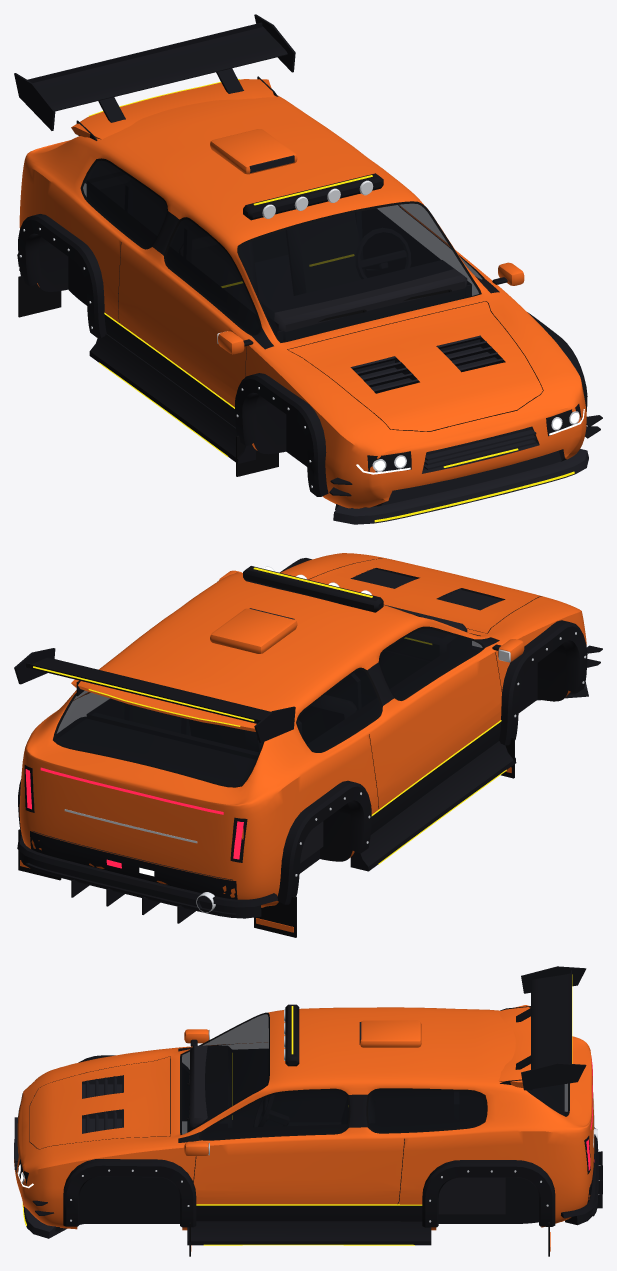
The model's file is car_kaiju.glb.
The picture shows the model from 3 angles, top to bottom: view 1: azimuth 30°, elevation 25°; view 2: azimuth 150°, elevation 25°; view 3: azimuth 270°, elevation 25°; orthographic projection. The views are drawn at different scales.
Visible parts, largest first — view 1: body, kit_1_parts, spoiler_2_parts, spoiler_1_parts; view 2: body, kit_1_parts, spoiler_2_parts, kit_0_parts, spoiler_1_parts; view 3: body, kit_1_parts, spoiler_2_parts, spoiler_1_parts, kit_0_parts.
Boxes of the visible parts, box(x1,y1,x2,y2) form: body: box(18, 95, 587, 508); kit_1_parts: box(17, 253, 602, 524); spoiler_2_parts: box(14, 14, 295, 130); spoiler_1_parts: box(71, 76, 278, 140); body: box(18, 553, 587, 912); kit_1_parts: box(17, 645, 602, 937); spoiler_2_parts: box(14, 648, 295, 742); kit_0_parts: box(19, 649, 575, 918); spoiler_1_parts: box(71, 679, 258, 740); body: box(14, 1004, 597, 1230); kit_1_parts: box(22, 1112, 602, 1256); spoiler_2_parts: box(515, 966, 586, 1090); spoiler_1_parts: box(498, 1005, 532, 1090); kit_0_parts: box(55, 1208, 593, 1231).
Bounding box in the file's own units: 2 × 1.46 × 4.2.
